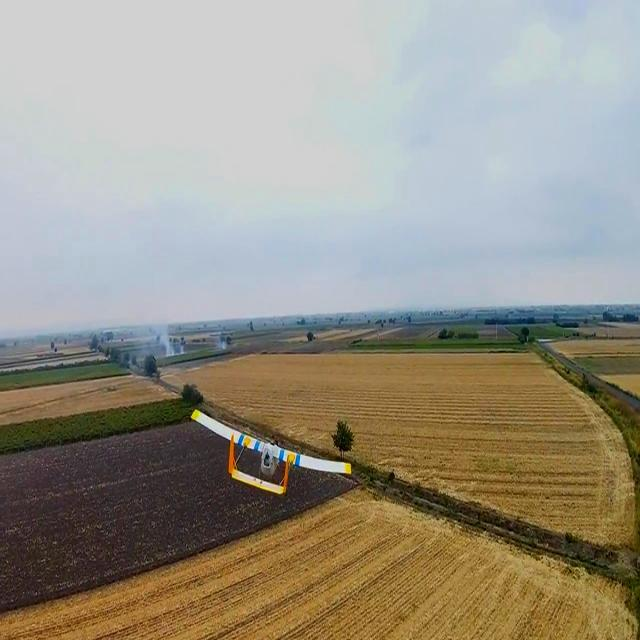iha: (169, 427, 351, 472)
